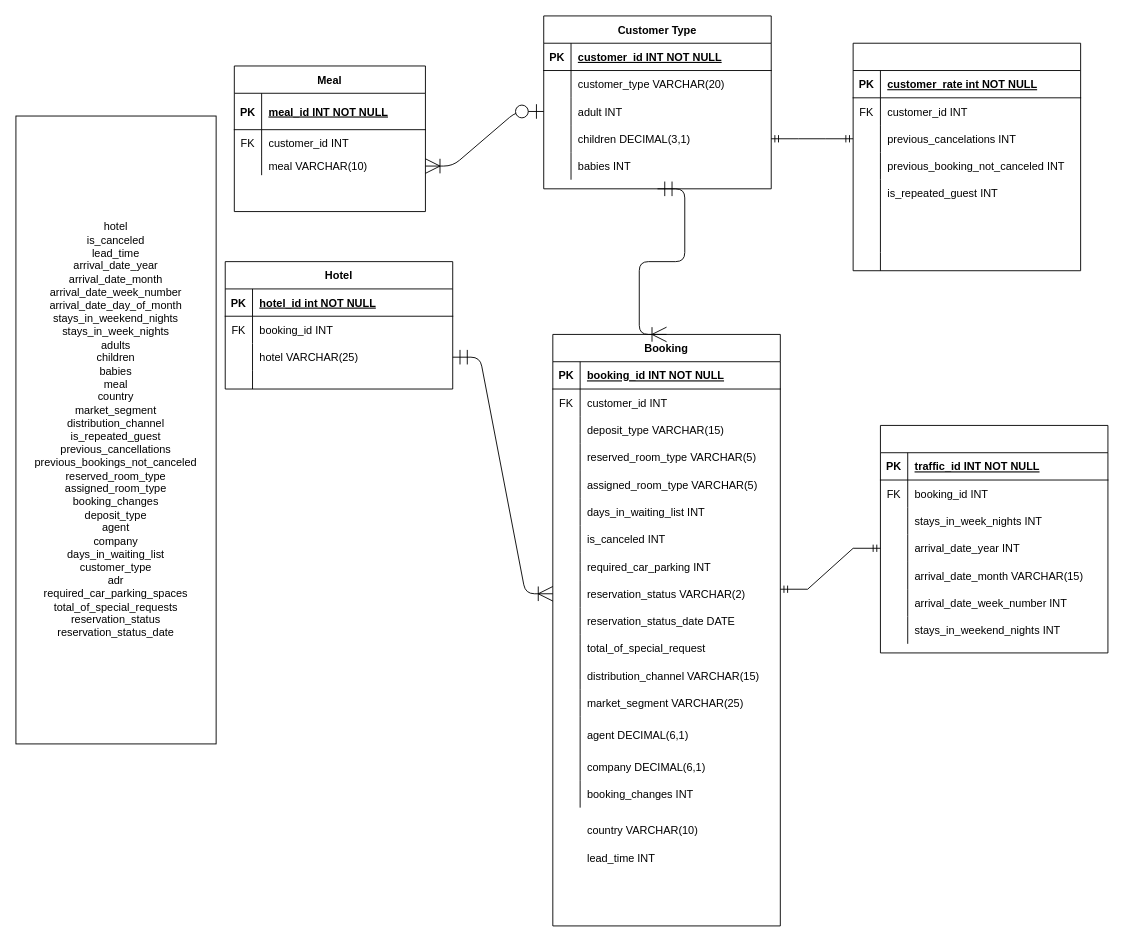
This 1124x942 diagram has some shape labels left out. The shapes that lost their labels are listed below. From the top down, each one's box as (x1, y1, x2, y2) in pixels, then its label:
(852, 42, 1081, 271): Customer History
(880, 425, 1108, 653): Room Traffic
